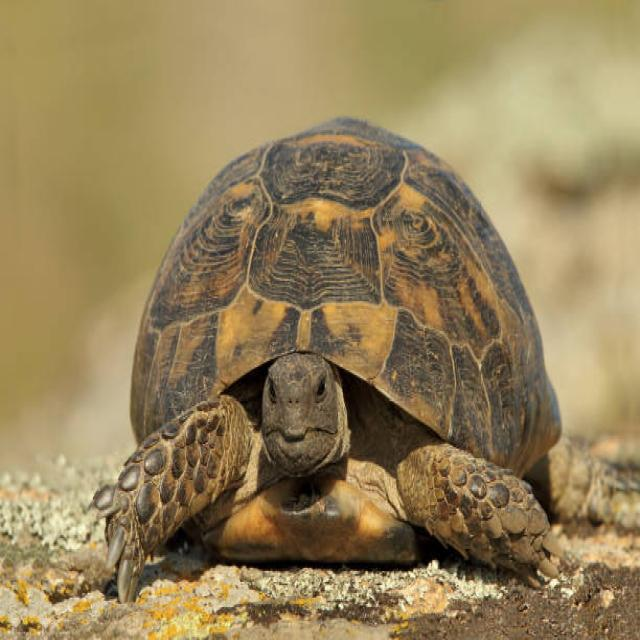tortoise: (110, 89, 548, 352), (238, 344, 402, 548), (67, 407, 233, 594), (413, 438, 576, 608)
